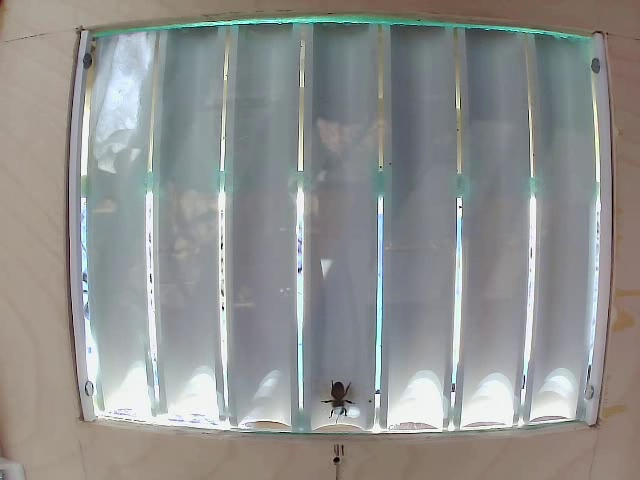bee: (319, 367, 369, 421)
